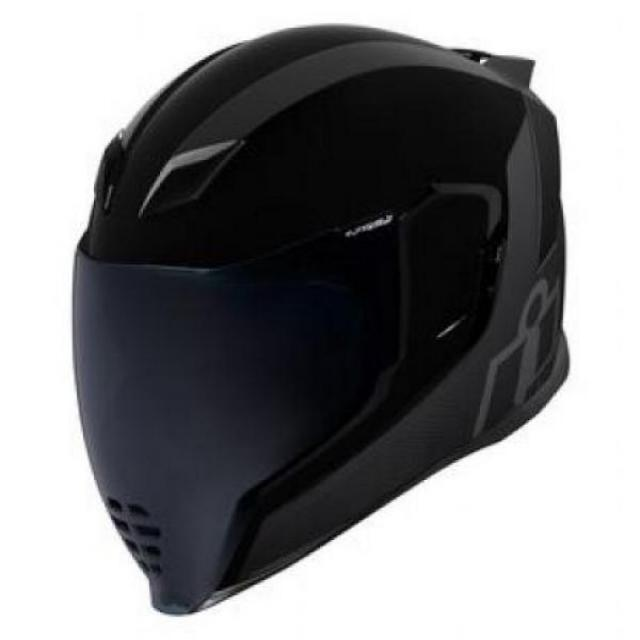Helmet: (80, 20, 578, 602)
